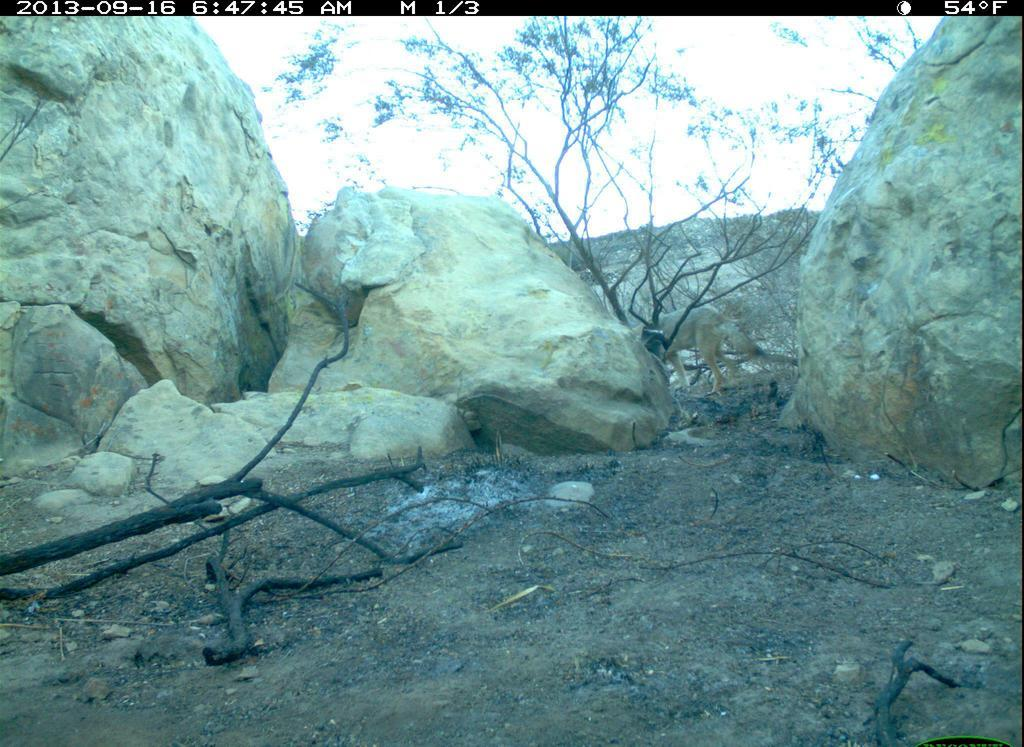coyote: (626, 301, 765, 399)
